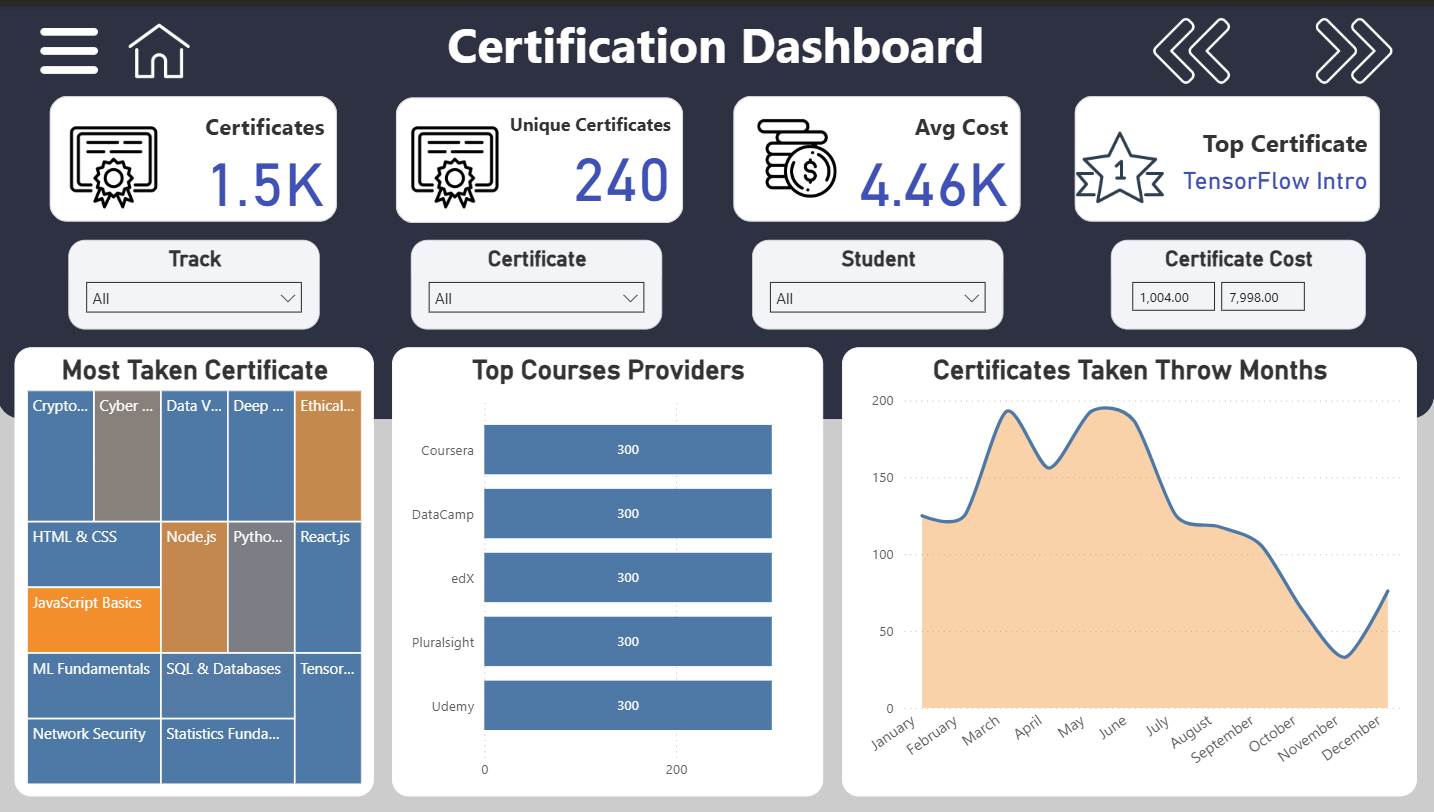

The dashboard page shown, as its layout file describes it:
{"tool":"powerbi","page":{"name":"12.Certification Dashboard","canvas":[1280,720],"ordinal":11},"visuals":[{"type":"shape","box":[0,0,1280,368],"z":0},{"type":"cardVisual","fields":{"Data":["Dim_student.total certificates"]},"box":[46.2,79.9,256,112],"z":1000},{"type":"cardVisual","fields":{"Data":["Dim_student.total Unique certificates"]},"box":[355.5,81.8,256,112],"z":2000},{"type":"cardVisual","fields":{"Data":["Dim_student.avg cer cost"]},"box":[656,80,256,112],"z":3000},{"type":"cardVisual","fields":{"Data":["Dim_student.Top_Certificate_Name"]},"box":[960,80,272,112],"z":4000},{"type":"barChart","title":"Top Courses Providers","fields":{"Y":["CountNonNull(Dim_student.Provider_name)"],"Category":["Dim_student.Provider_name"]},"box":[352,304,384,400],"z":5000},{"type":"areaChart","title":"Certificates Taken Throw Months","fields":{"Category":["Dim_student.AcquiredDate.Variation.Date Hierarchy.Month"],"Y":["Dim_student.Certified_Students_by_Date"]},"box":[752,304,512,400],"z":6000},{"type":"slicer","title":"Student","fields":{"Values":["Dim_student.full_Name"]},"box":[672,208,224,80],"z":7000},{"type":"slicer","title":"Track","fields":{"Values":["Dim_Track.Track_Name"]},"box":[64,208,224,80],"z":8000},{"type":"slicer","title":"Certificate","fields":{"Values":["Dim_student.Cer_name"]},"box":[368,208,224,80],"z":9000},{"type":"slicer","title":"Certificate Cost","fields":{"Values":["Dim_student.Cost"]},"box":[992,208,227,80],"z":10000},{"type":"treemap","title":"Most Taken Certificate","fields":{"Group":["Dim_student.Cer_name"],"Values":["Dim_student.Students_Per_Certificate"]},"box":[16,304,320,400],"z":11000},{"type":"textbox","box":[384,0,512,80],"z":12000},{"type":"image","box":[672,96,80,80],"z":13000},{"type":"image","box":[944,96,112,96],"z":14000},{"type":"image","box":[48,96,112,96],"z":15000},{"type":"image","box":[352,96,112,96],"z":16000},{"type":"image","box":[1136,0,144,80],"z":17000},{"type":"image","box":[992,0,144,80],"z":18000},{"type":"image","box":[32,0,64,80],"z":19000},{"type":"image","box":[112,0,64,80],"z":20000}]}

Visuals, with their boxes in screenshot pixels (x1, y1, x2, y2), scaled from the page's 1280x720 canvas onto the 1434x812 screenshot:
shape: box=[0, 0, 1433, 415]
cardVisual - Dim_student.total certificates: box=[52, 90, 339, 216]
cardVisual - Dim_student.total Unique certificates: box=[398, 92, 685, 219]
cardVisual - Dim_student.avg cer cost: box=[735, 90, 1022, 217]
cardVisual - Dim_student.Top_Certificate_Name: box=[1076, 90, 1380, 217]
"Top Courses Providers" barChart: box=[394, 343, 825, 794]
"Certificates Taken Throw Months" areaChart: box=[842, 343, 1416, 794]
"Student" slicer: box=[753, 235, 1004, 325]
"Track" slicer: box=[72, 235, 323, 325]
"Certificate" slicer: box=[412, 235, 663, 325]
"Certificate Cost" slicer: box=[1111, 235, 1366, 325]
"Most Taken Certificate" treemap: box=[18, 343, 376, 794]
textbox: box=[430, 0, 1004, 90]
image: box=[753, 108, 842, 198]
image: box=[1058, 108, 1183, 217]
image: box=[54, 108, 179, 217]
image: box=[394, 108, 520, 217]
image: box=[1273, 0, 1433, 90]
image: box=[1111, 0, 1273, 90]
image: box=[36, 0, 108, 90]
image: box=[125, 0, 197, 90]
